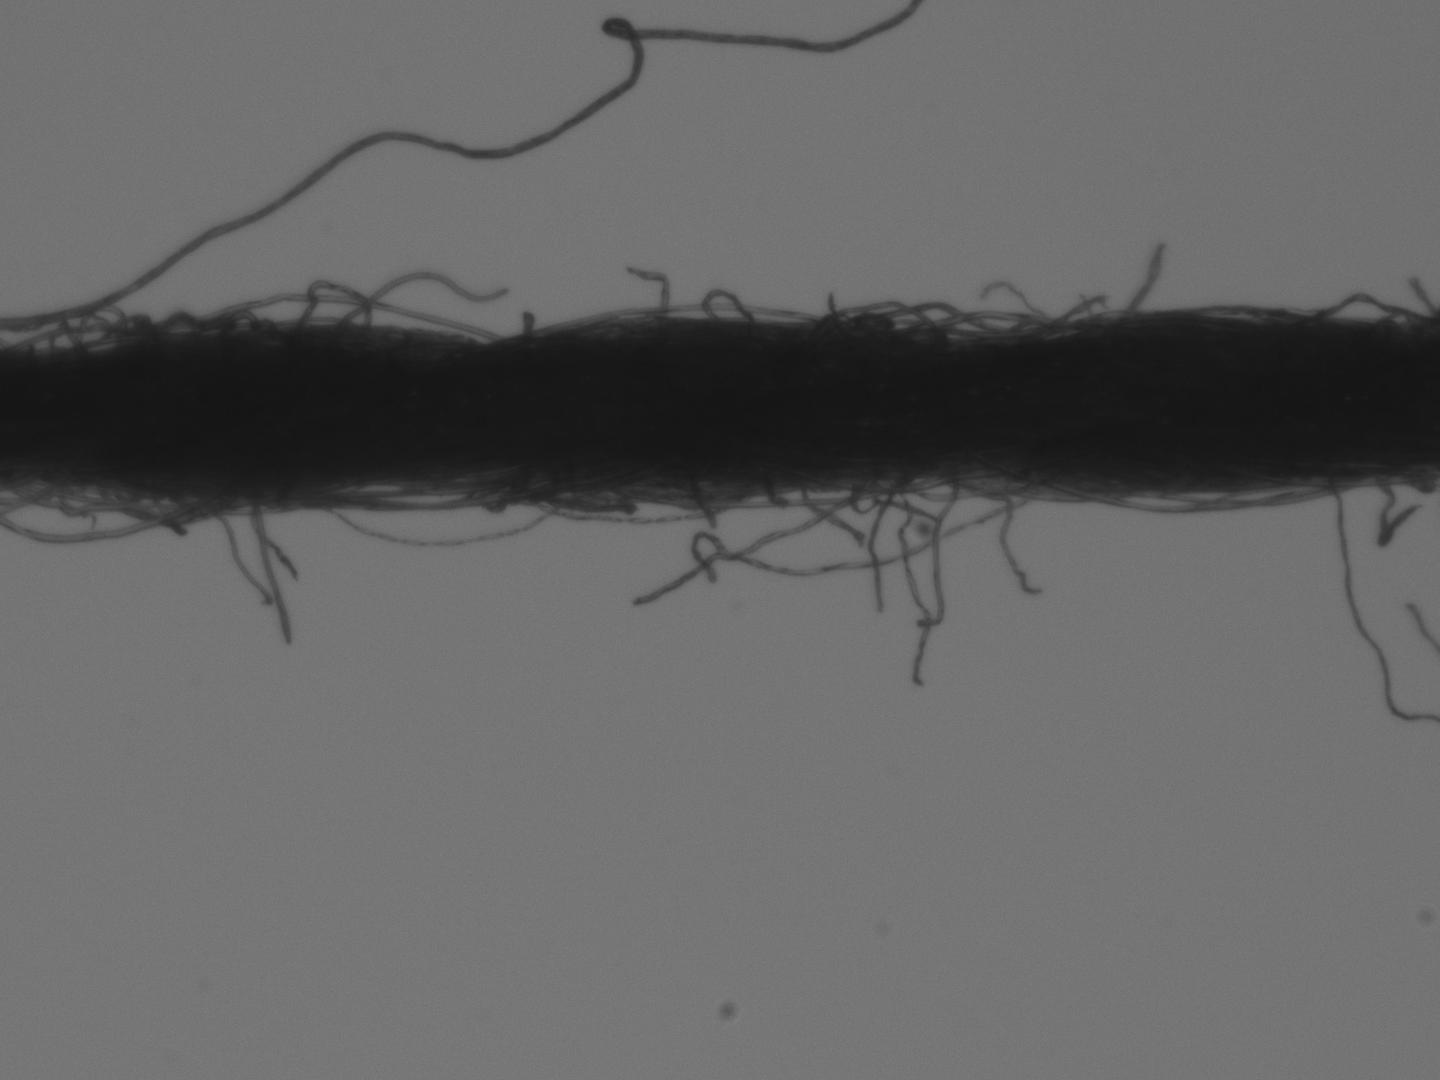loop_fiber: (320, 484, 554, 550), (209, 293, 499, 341), (532, 483, 735, 529), (15, 480, 159, 520), (333, 482, 505, 515), (1155, 482, 1342, 511), (811, 297, 948, 336), (1062, 488, 1228, 520), (285, 280, 372, 335), (873, 302, 1002, 337), (1304, 293, 1425, 327), (897, 472, 1024, 504), (805, 472, 947, 500), (933, 309, 1054, 337), (16, 326, 139, 353), (76, 307, 127, 355), (703, 287, 754, 319)
protruding_fiber: (1, 2, 924, 330), (689, 479, 872, 590), (253, 500, 295, 648), (898, 484, 929, 686), (1118, 243, 1171, 317), (869, 479, 893, 616), (632, 263, 672, 317), (519, 312, 535, 334)
